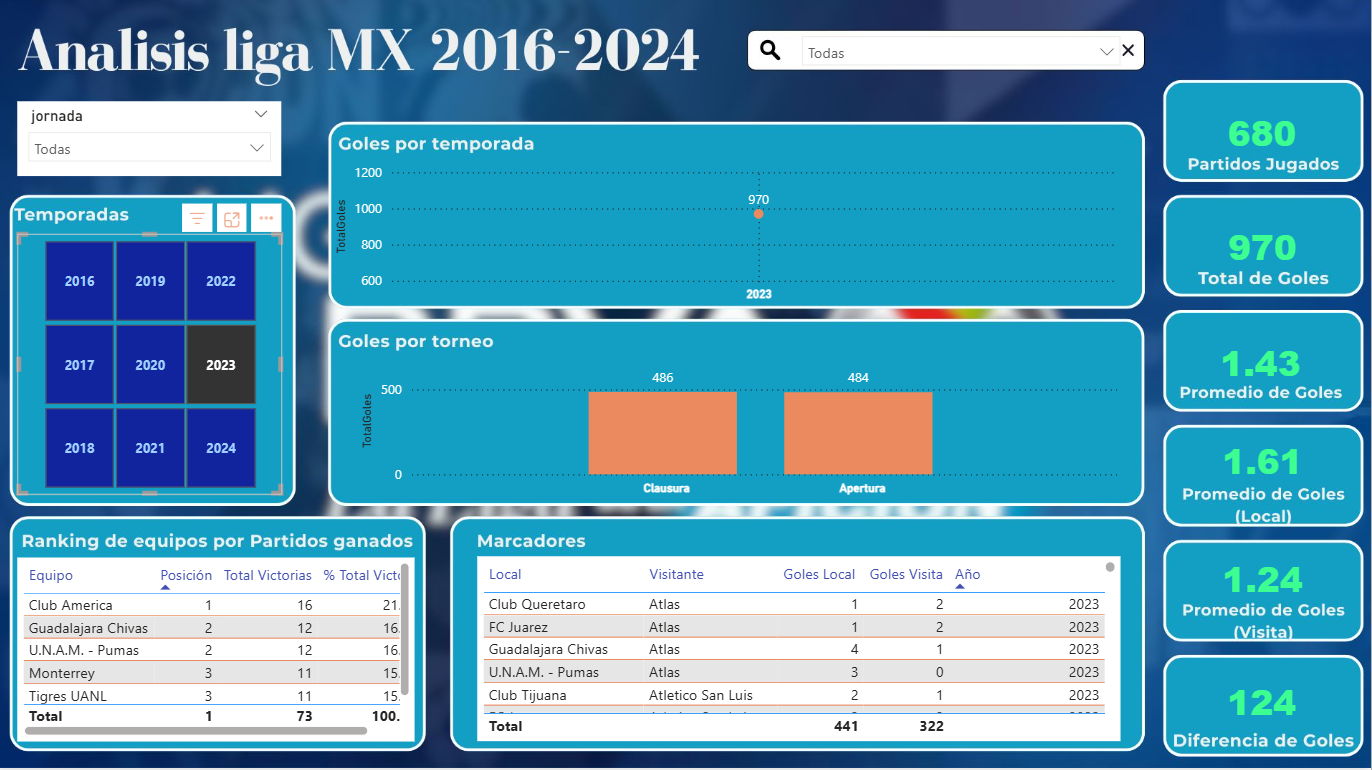

The dashboard page shown, as its layout file describes it:
{"tool":"powerbi","page":{"name":"Página 1","canvas":[1280,720],"ordinal":0},"visuals":[{"type":"slicer","fields":{"Values":["2016-2024_liga_mx.season"]},"box":[20.3,221.6,245.7,243.1],"z":0},{"type":"card","fields":{"Values":["2016-2024_liga_mx.partidosTotales"]},"box":[1099.2,88.6,158.3,79.8],"z":1000},{"type":"card","fields":{"Values":["2016-2024_liga_mx.TotalGoles"]},"box":[1108,191.2,140.6,87.4],"z":2000},{"type":"card","fields":{"Values":["Avg(2016-2024_liga_mx.home_goals)"]},"box":[1108,393.8,140.6,79.8],"z":3000},{"type":"card","fields":{"Values":["Avg(2016-2024_liga_mx.away_goals)"]},"box":[1077.6,497.7,201.3,91.2],"z":4000},{"type":"clusteredColumnChart","fields":{"Category":["2016-2024_liga_mx.tournament"],"Y":["2016-2024_liga_mx.TotalGoles"]},"box":[334.3,333,712.9,140.6],"z":5000},{"type":"card","fields":{"Values":["2016-2024_liga_mx.difGoles"]},"box":[1087.8,621.8,181.1,72.2],"z":6000},{"type":"slicer","fields":{"Values":["2016-2024_liga_mx.home_team"]},"box":[739.5,27.9,316.6,40.5],"z":7000},{"type":"card","fields":{"Values":["2016-2024_liga_mx.Promedio Goles Equipo"]},"box":[1086.5,297.6,181.1,89.9],"z":8000},{"type":"tableEx","fields":{"Values":["2016-2024_liga_mx.home_team","2016-2024_liga_mx.PartidosGanados","2016-2024_liga_mx.Total Victorias","Divide(2016-2024_liga_mx.Total Victorias, ScopedEval(2016-2024_liga_mx.Total Victorias, []))"]},"box":[20.3,523,369.8,171],"z":10000},{"type":"tableEx","fields":{"Values":["2016-2024_liga_mx.home_team","2016-2024_liga_mx.away_team","Sum(2016-2024_liga_mx.home_goals)","Sum(2016-2024_liga_mx.away_goals)","2016-2024_liga_mx.date.Variación.Jerarquía de fechas.Año"]},"box":[448,522.5,598.4,171.6],"z":11000},{"type":"slicer","fields":{"Values":["2016-2024_liga_mx.jornada"]},"box":[20.3,98.8,245.7,69.6],"z":12000},{"type":"lineChart","fields":{"Y":["2016-2024_liga_mx.TotalGoles"],"Category":["2016-2024_liga_mx.season"]},"box":[310.3,150.7,737,141.8],"z":13000}]}

Visuals, with their boxes in screenshot pixels (x1, y1, x2, y2), scaled from the page's 1280x720 canvas onto the 1372x770 screenshot:
slicer - 2016-2024_liga_mx.season: Rect(22, 237, 285, 497)
card - 2016-2024_liga_mx.partidosTotales: Rect(1178, 95, 1348, 180)
card - 2016-2024_liga_mx.TotalGoles: Rect(1188, 204, 1338, 298)
card - Avg(2016-2024_liga_mx.home_goals): Rect(1188, 421, 1338, 506)
card - Avg(2016-2024_liga_mx.away_goals): Rect(1155, 532, 1371, 630)
clusteredColumnChart - 2016-2024_liga_mx.tournament x 2016-2024_liga_mx.TotalGoles: Rect(358, 356, 1122, 506)
card - 2016-2024_liga_mx.difGoles: Rect(1166, 665, 1360, 742)
slicer - 2016-2024_liga_mx.home_team: Rect(793, 30, 1132, 73)
card - 2016-2024_liga_mx.Promedio Goles Equipo: Rect(1165, 318, 1359, 414)
tableEx - 2016-2024_liga_mx.home_team x 2016-2024_liga_mx.PartidosGanados: Rect(22, 559, 418, 742)
tableEx - 2016-2024_liga_mx.home_team x 2016-2024_liga_mx.away_team: Rect(480, 559, 1122, 742)
slicer - 2016-2024_liga_mx.jornada: Rect(22, 106, 285, 180)
lineChart - 2016-2024_liga_mx.TotalGoles x 2016-2024_liga_mx.season: Rect(333, 161, 1123, 313)
